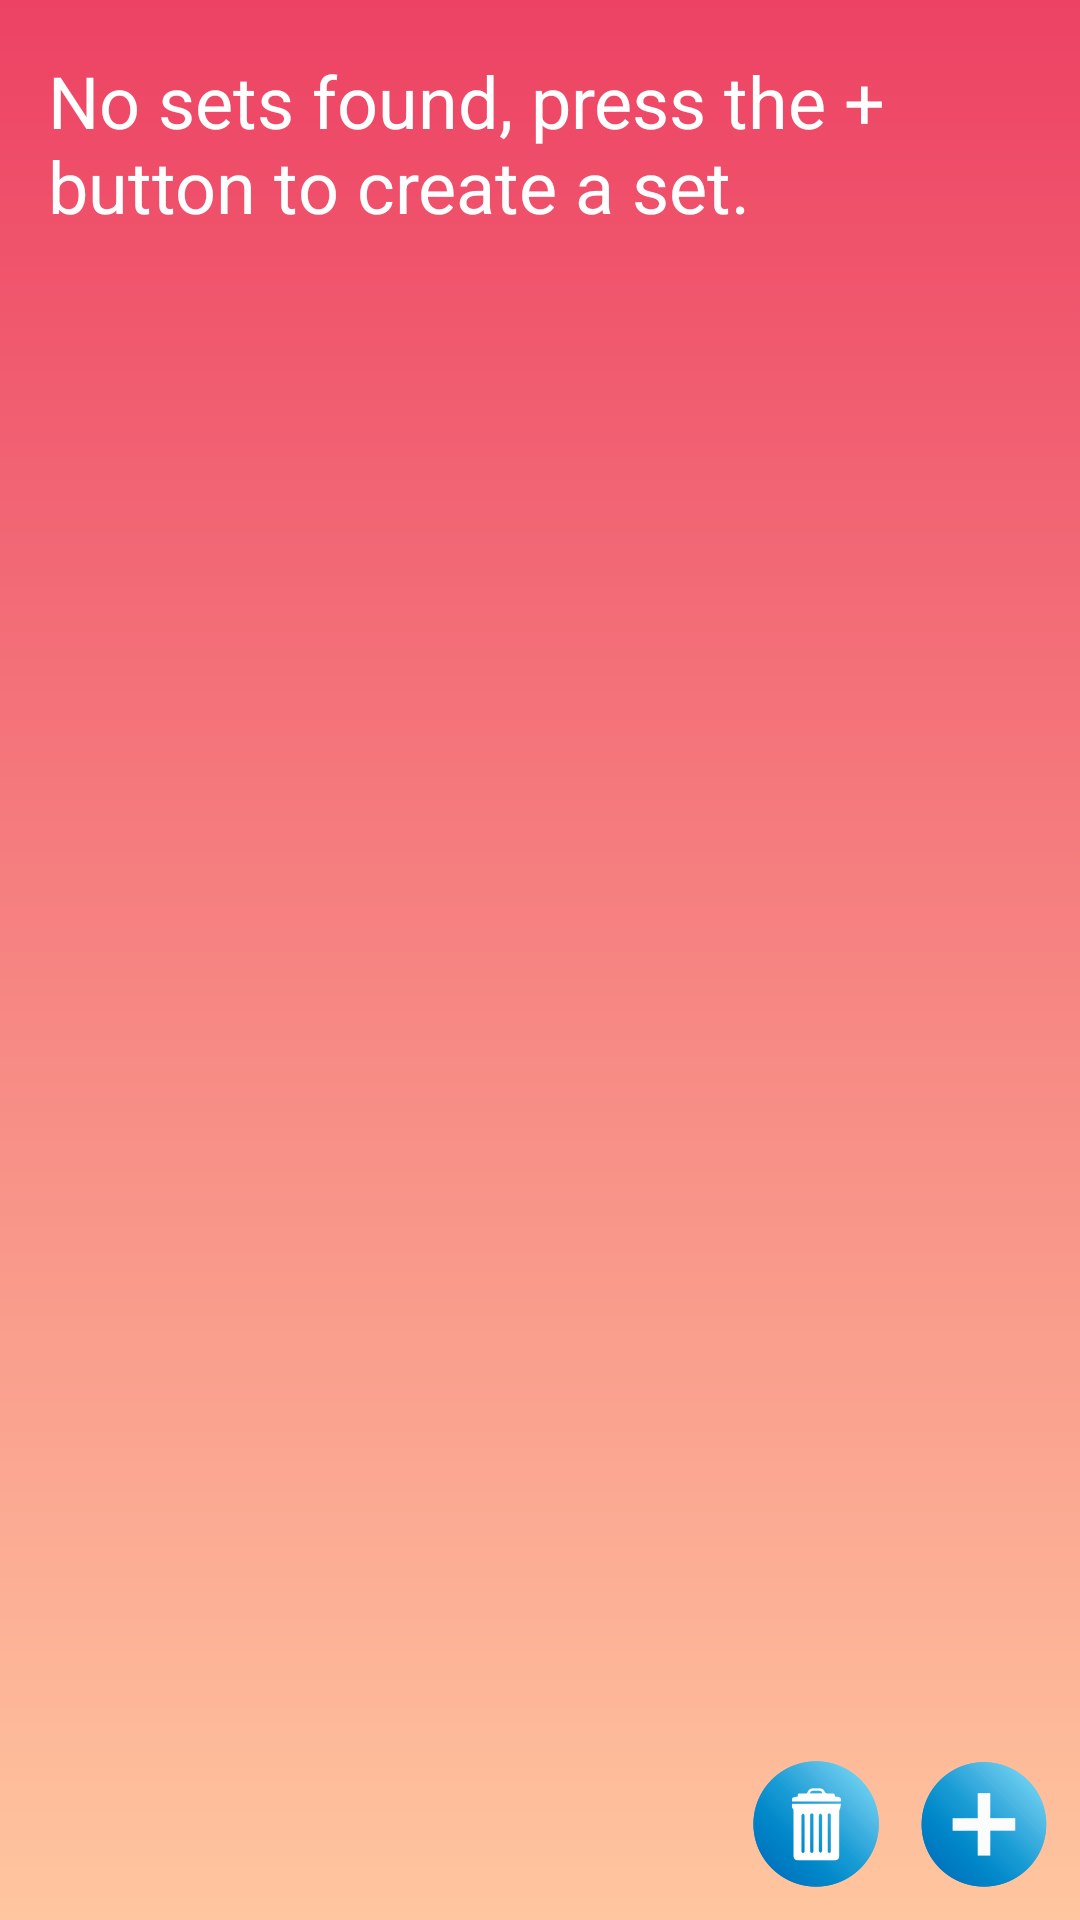

Where icons sit on this 1080 × 1920 app screen, as [x1,y1,x2,y2]:
bluebutton: [921,1762,1047,1887]
deletebutton: [753,1761,879,1887]
